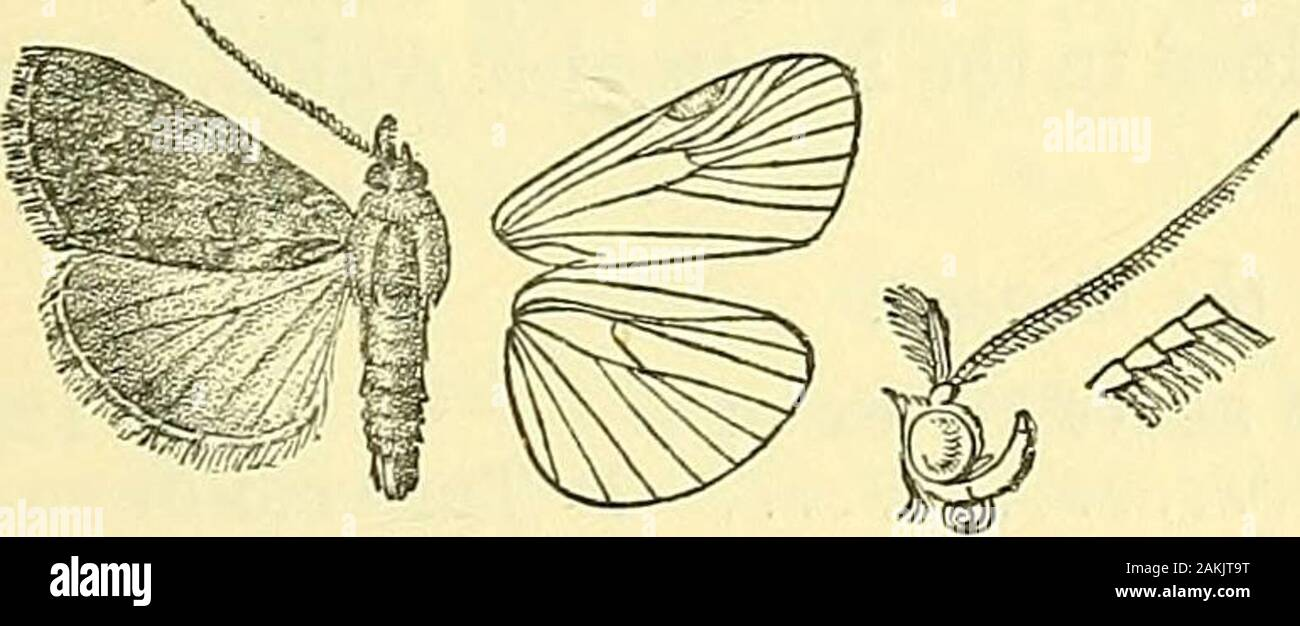Noctuidae: (4, 1, 864, 510)
